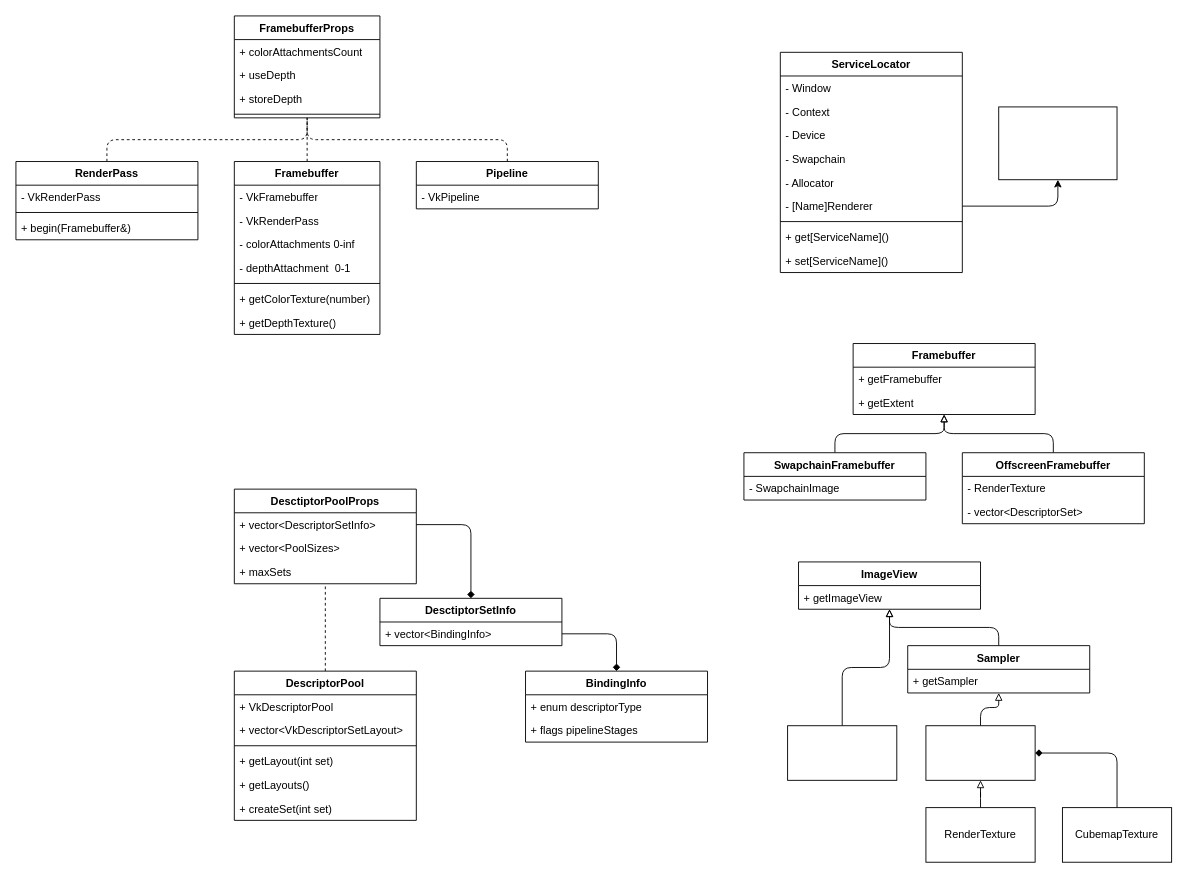
This 1188x878 diagram has some shape labels left out. The shapes that lost their labels are listed below. From the top down, each one's centre as x and y in pixels, then its label:
(1057,143): aka MeshRenderer GuiRenderer DebugRenderer
(842,752): SwapchainImage
(980,752): Texture
